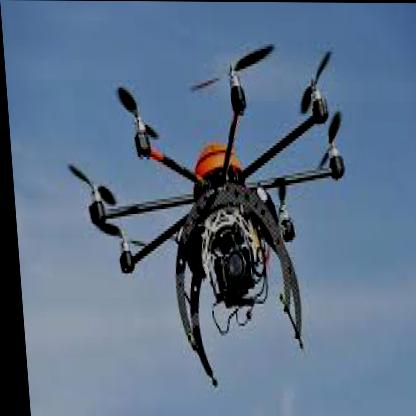UAS: (57, 42, 356, 388)
